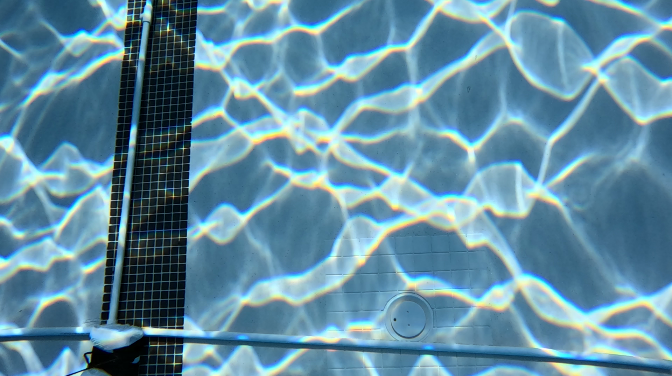sandbag: (72, 325, 145, 375)
